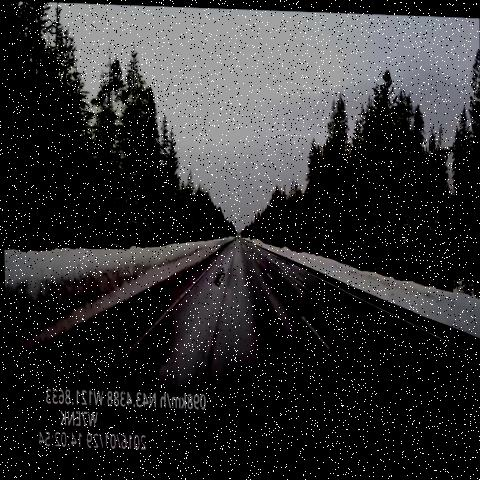pothole: (211, 258, 224, 295)
